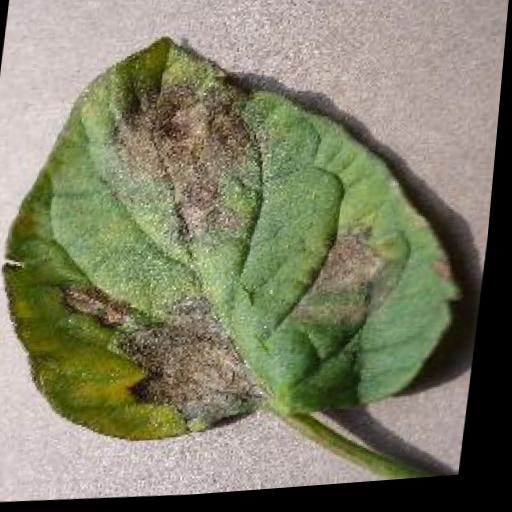Late Blight: (0, 14, 494, 464)
